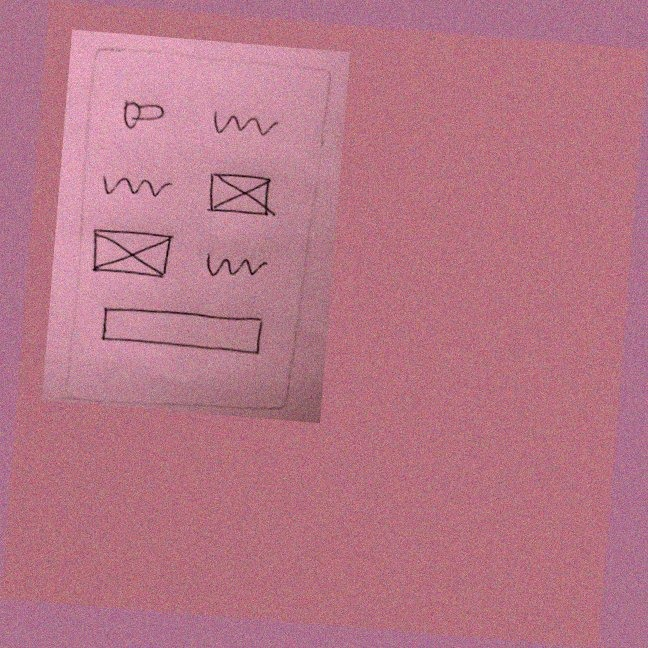image: (84, 223, 179, 284), (201, 167, 282, 224)
switch: (117, 94, 172, 137)
text: (94, 169, 177, 207), (200, 248, 273, 289), (207, 107, 284, 142)
text_input: (95, 302, 266, 361)
